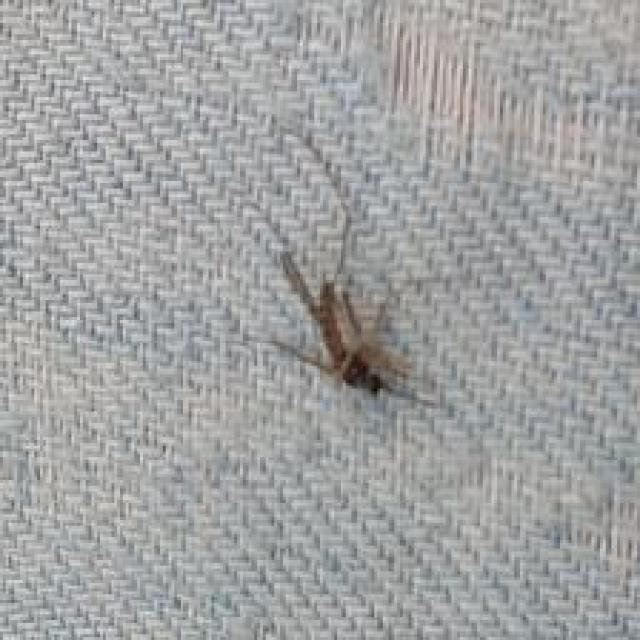Culex: (247, 213, 442, 410)
